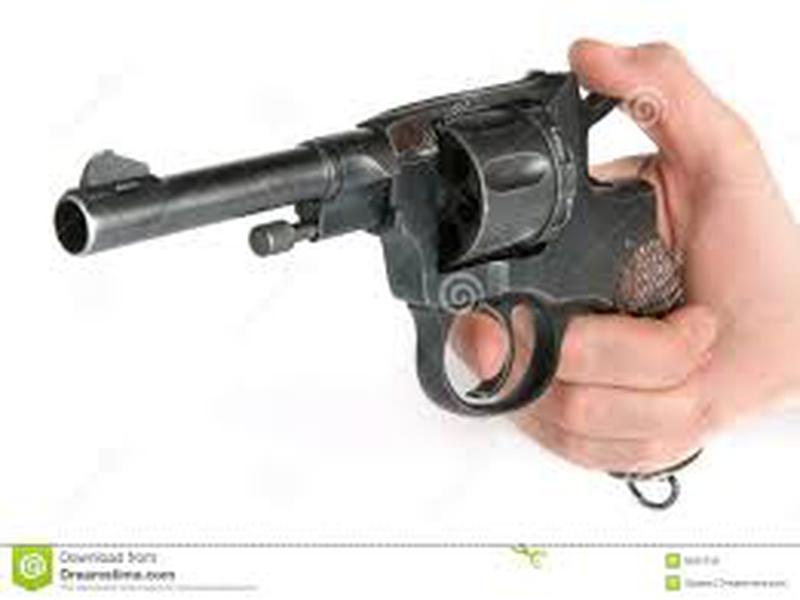gun: (50, 32, 797, 480)
